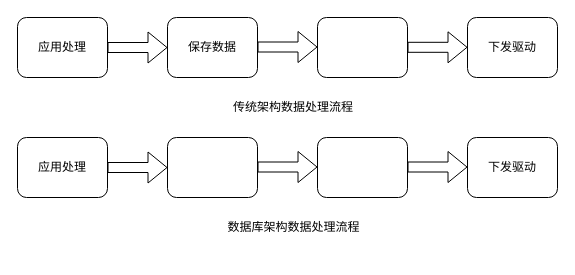
This 575x275 diagram has some shape labels left out. Each missing label, with the centre of its shape:
"关联模块订阅数据库" belongs at (x=362, y=167).
"存数据库" belongs at (x=212, y=167).
"通知关联模块" belongs at (x=362, y=47).
